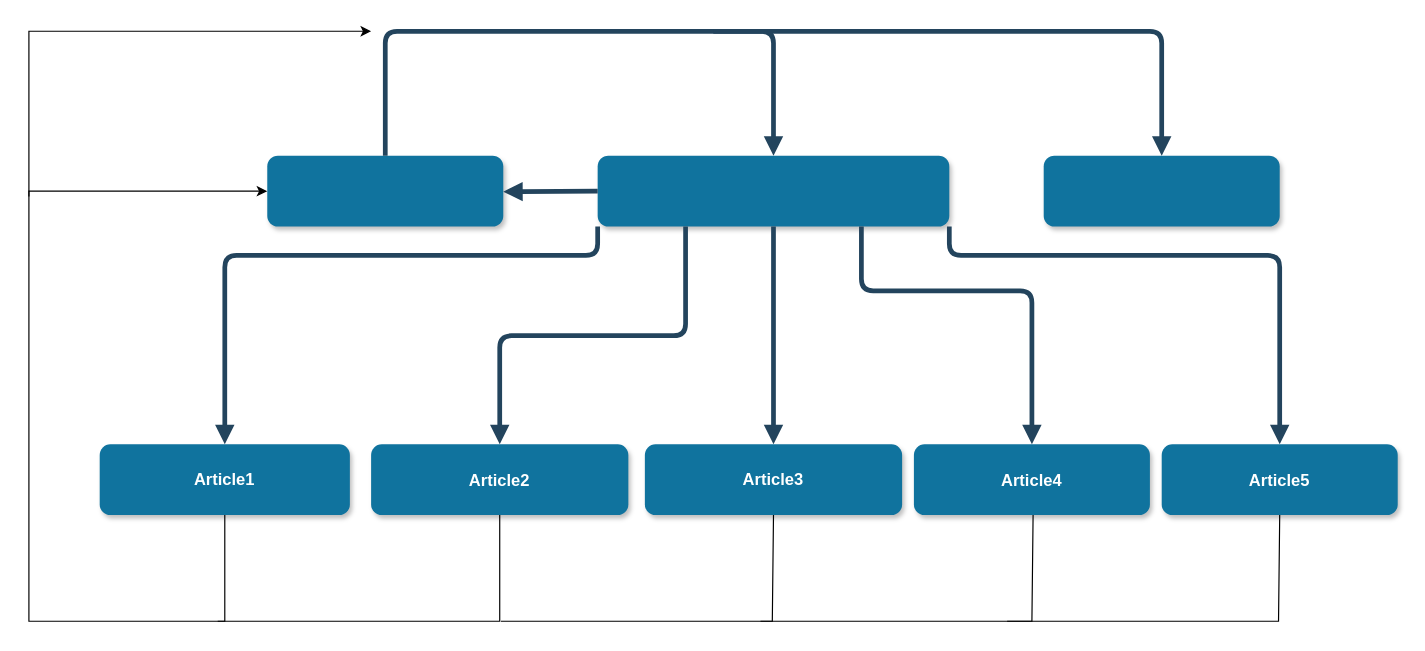
Some shapes in this 1425 by 651 pixel diagram are drawn without their labels. The centre of each missing label's shape, as x and y in pixels:
About: [386,192]
Home: [774,192]
Sign Up: [1162,192]
